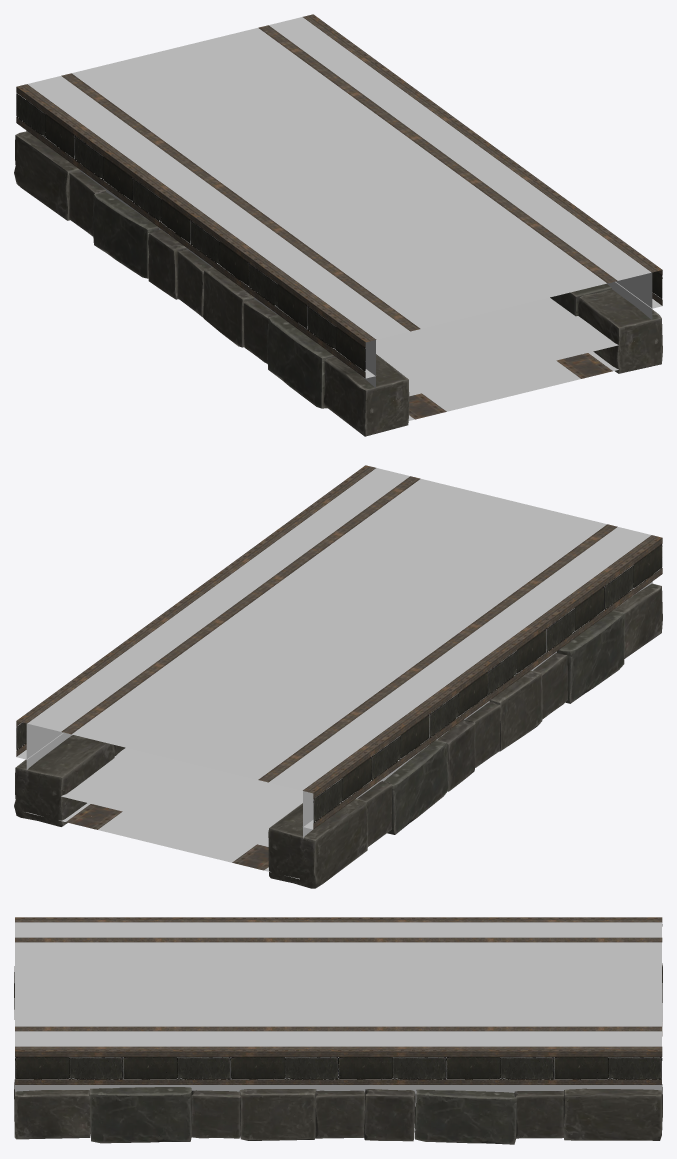
The picture shows the model from 3 angles, top to bottom: view 1: azimuth 30°, elevation 25°; view 2: azimuth 150°, elevation 25°; view 3: azimuth 270°, elevation 25°; orthographic projection. The views are drawn at different scales.
Parts seen in each view (by area): view 1: SM_Dowdun_Bridge_L_02_LOD0; view 2: SM_Dowdun_Bridge_L_02_LOD0; view 3: SM_Dowdun_Bridge_L_02_LOD0.
Part boxes in pixels (box(x1,y1,x2,y2)): SM_Dowdun_Bridge_L_02_LOD0: box(14, 14, 662, 436); SM_Dowdun_Bridge_L_02_LOD0: box(14, 465, 662, 888); SM_Dowdun_Bridge_L_02_LOD0: box(14, 917, 662, 1144).
Size of the model in its own units: 8.88 by 2.77 by 17.55.
